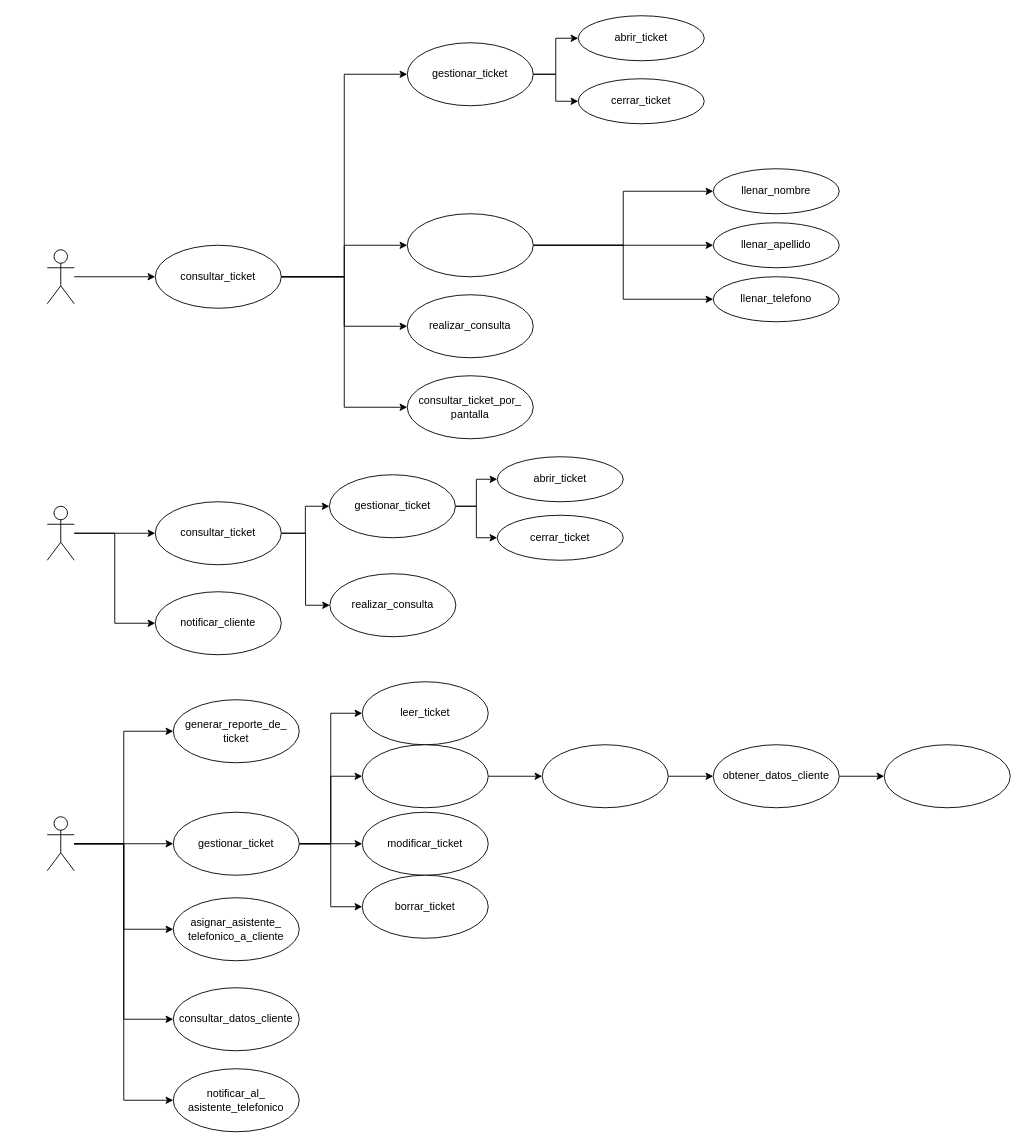
The diagram is 1026 pixels wide and 1148 high, and some of its shapes have lost their labels. Each missing label, with the centre of its shape:
"Cliente" goes at (60,276).
"crear_ticket" goes at (424,776).
"generar_id_ticket" goes at (604,776).
"guardar_ticket_ en_base_de_datos" goes at (946,776).
"llenar_datos" goes at (469,245).
"Representante telefónico" goes at (60,532).
"Sistema de Tickets" goes at (60,843).
